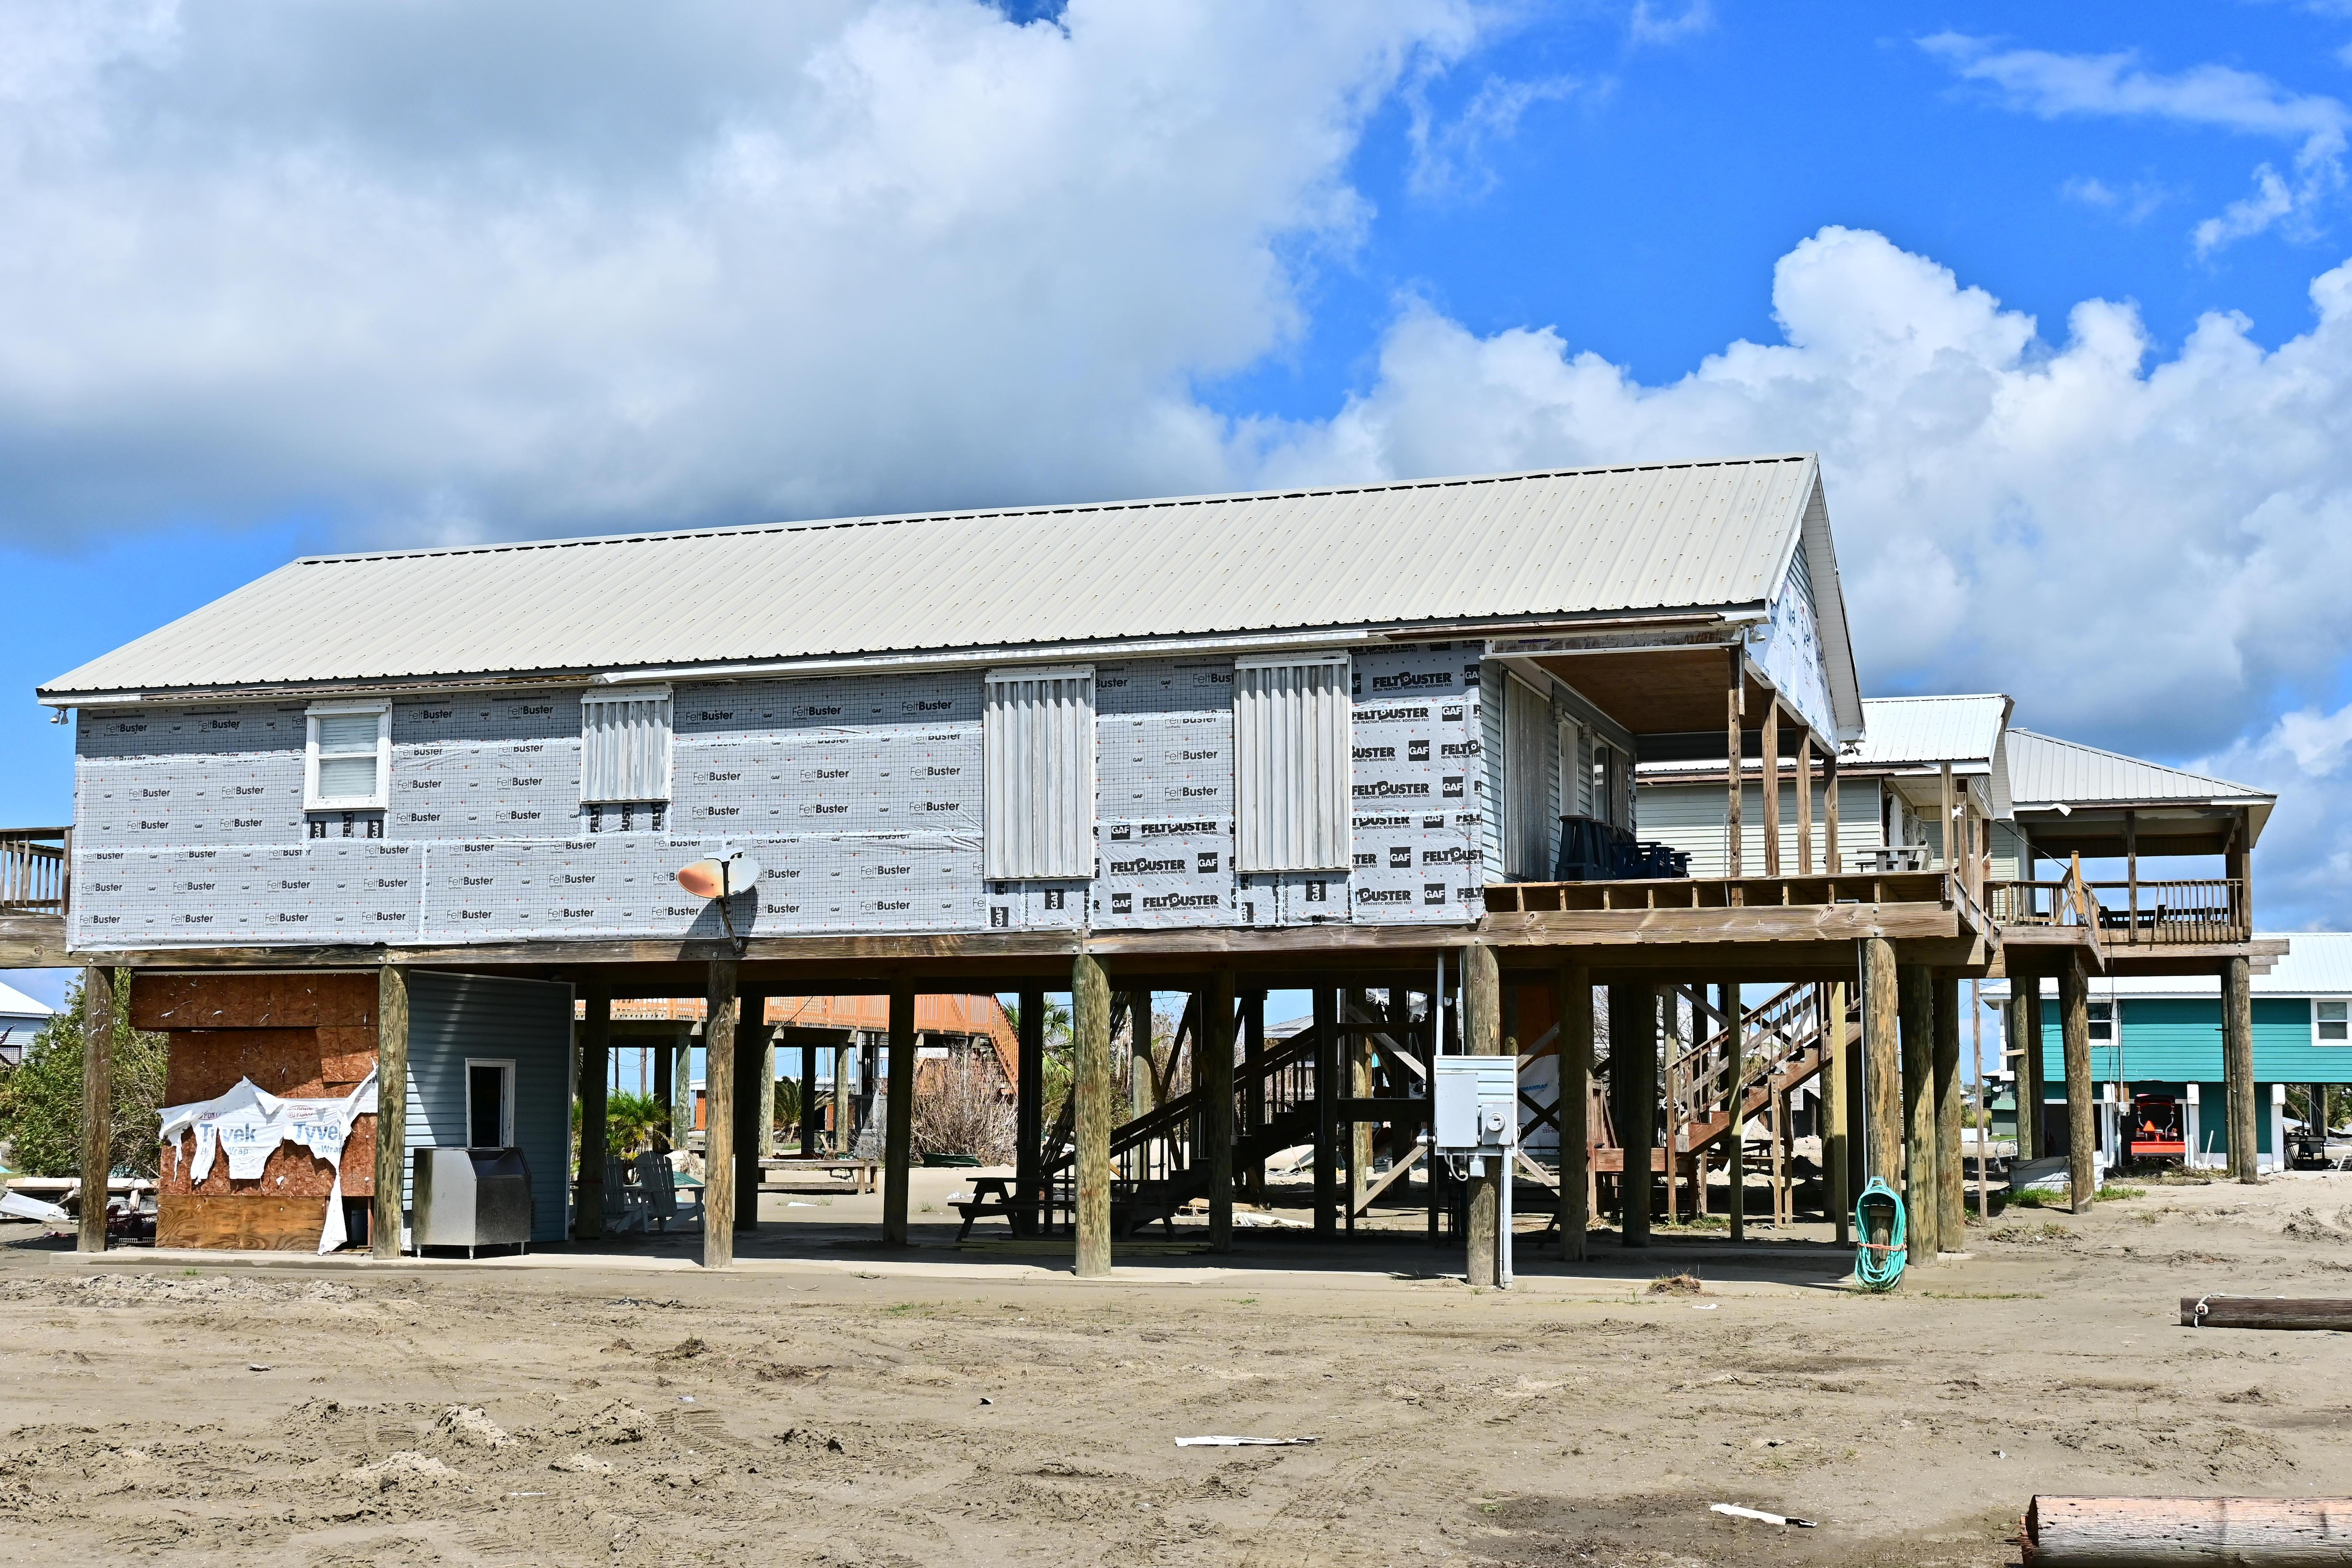minor: (39, 441, 2326, 1300)
